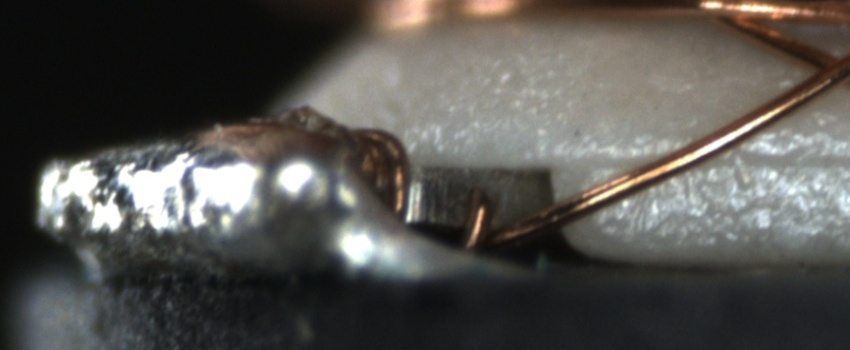CL: (797, 42, 849, 97)
DL: (571, 127, 847, 191)
TE: (328, 123, 495, 256)
